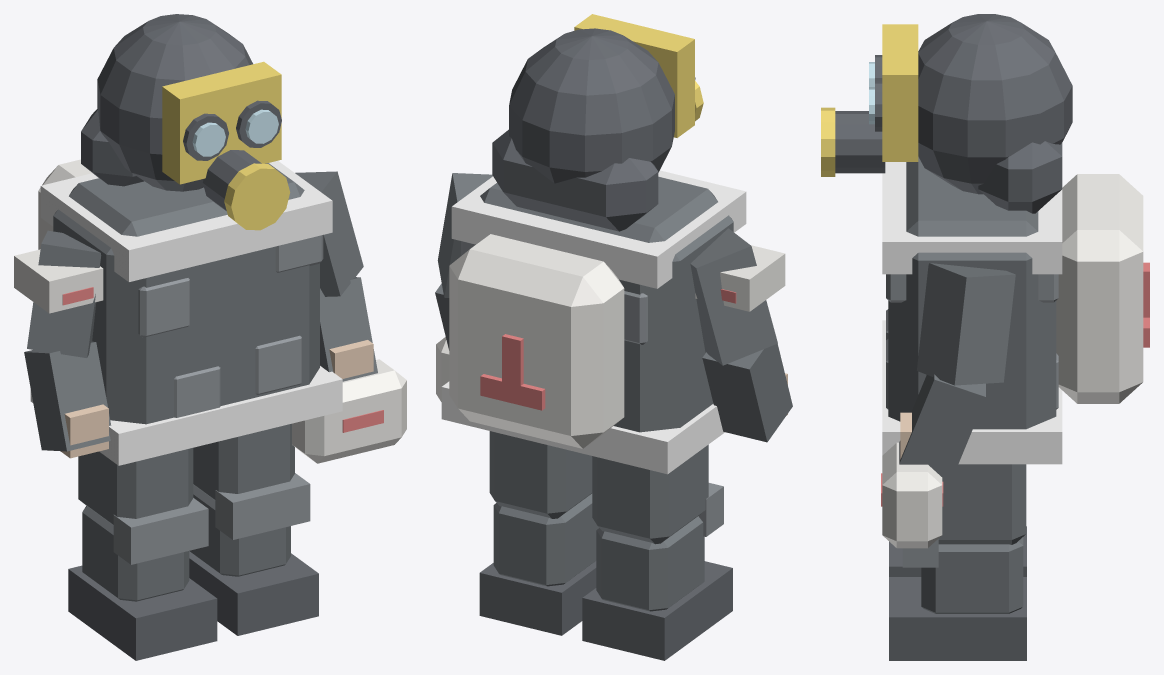
Rendered from medic@toxico.glb.
3 renders of one model, left to right at view 1: azimuth 30°, elevation 25°; view 2: azimuth 150°, elevation 25°; view 3: azimuth 270°, elevation 25°, orthographic. The views are drawn at different scales.
Parts seen in each view (by area): view 1: main, shinl, shinr, legl, legr; view 2: main, shinl, shinr, legl, legr; view 3: main, shinr, legr, shinl.
Boxes of the visible parts, x1,y1,x2,y2 form: main: (14, 14, 406, 465); shinl: (68, 498, 217, 660); shinr: (189, 473, 318, 635); legl: (78, 448, 193, 525); legr: (193, 423, 294, 500); main: (435, 14, 792, 474); shinl: (582, 483, 732, 660); shinr: (479, 493, 598, 635); legl: (592, 444, 708, 544); legr: (489, 431, 592, 518); main: (821, 14, 1149, 548); shinr: (889, 537, 1026, 660); legr: (938, 464, 1026, 544); shinl: (889, 526, 1026, 576).
Bounding box in the file's own units: 0.3455 × 0.5462 × 0.274.
